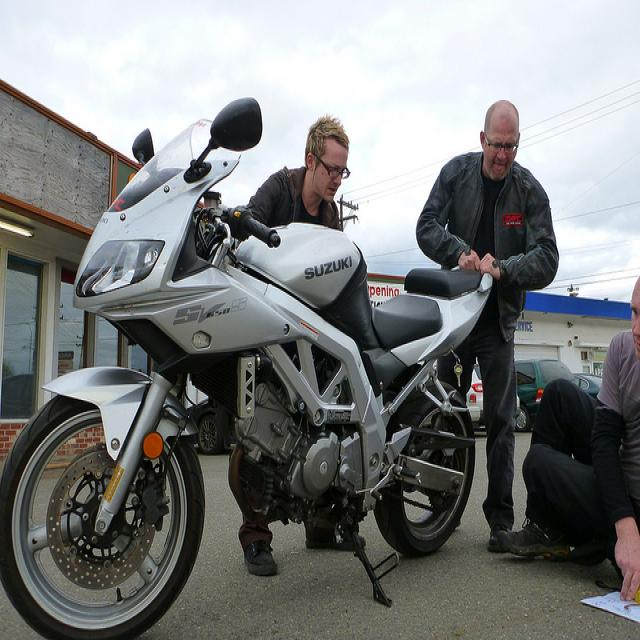motor: (1, 97, 494, 629)
